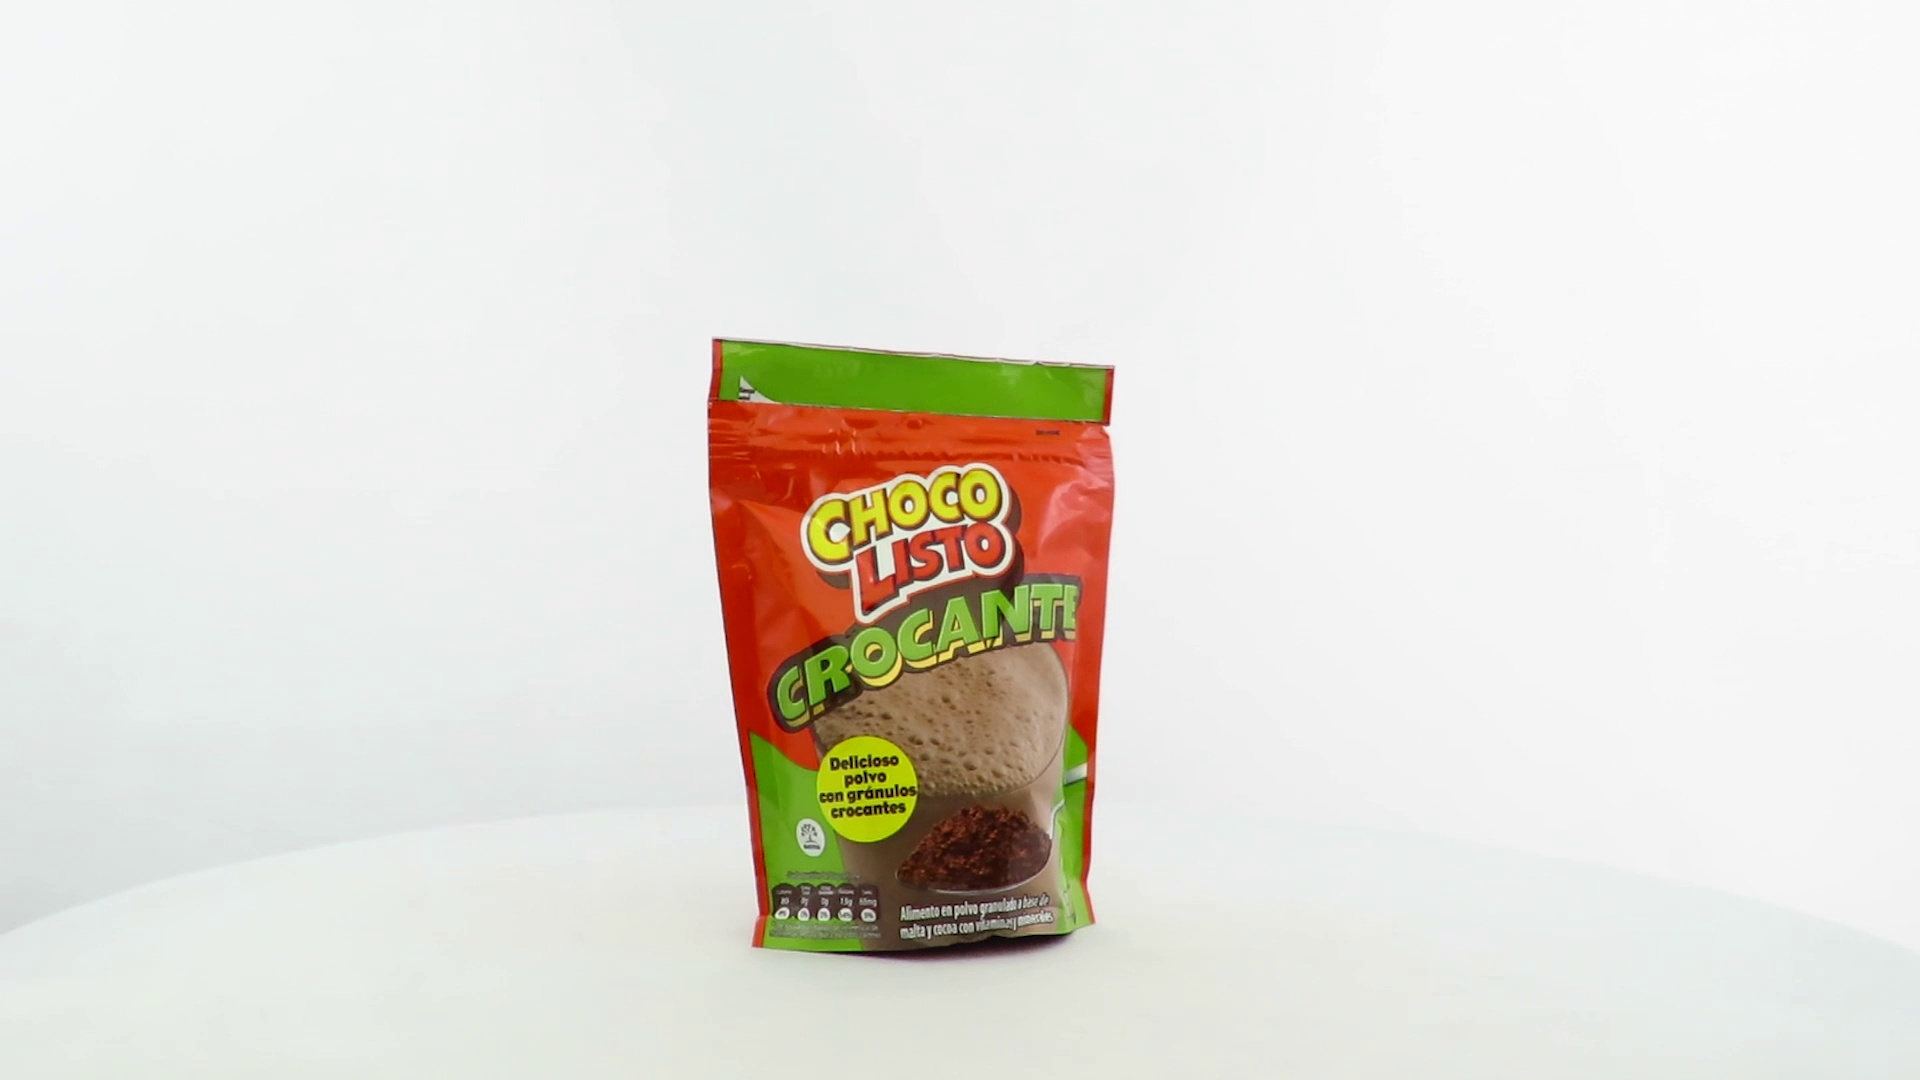COL0170102DYP10000: (702, 334, 1121, 967)
